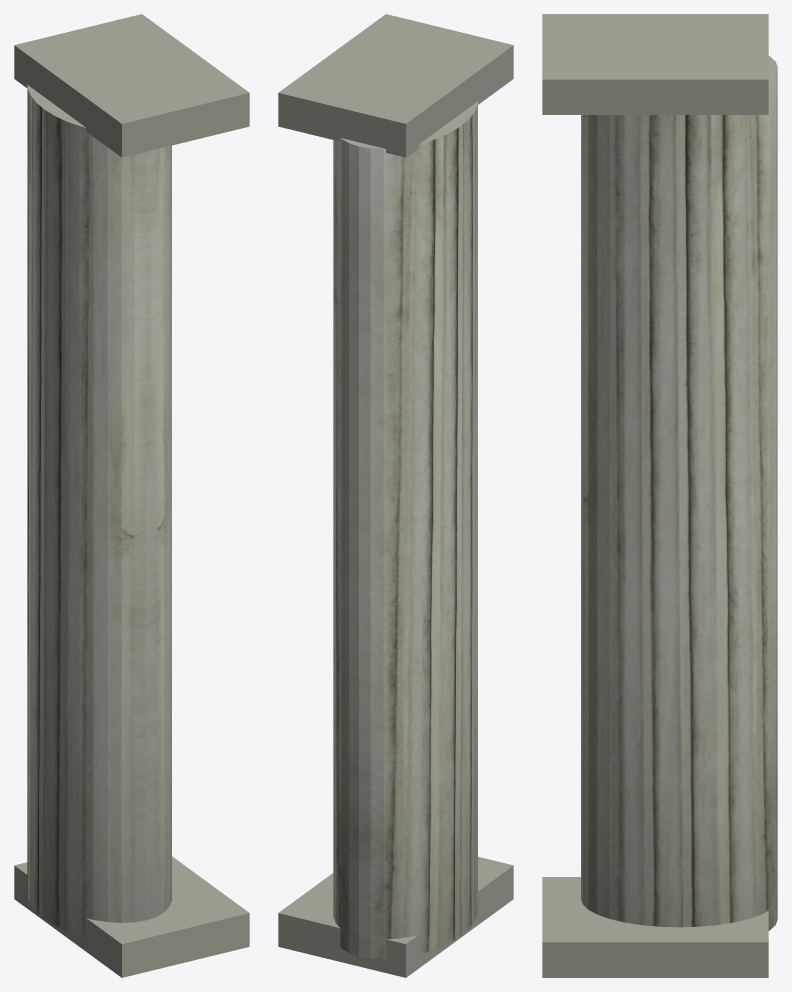
Rendered from column.fbx.
3 views of the same model, side by side, from view 1: azimuth 30°, elevation 25°; view 2: azimuth 150°, elevation 25°; view 3: azimuth 270°, elevation 25° (orthographic). The views are drawn at different scales.
Visible parts, largest first — view 1: Column.001; view 2: Column.001; view 3: Column.001.
Boxes of the visible parts, box(x1,y1,x2,y2) form: Column.001: box(14, 14, 249, 977); Column.001: box(278, 14, 513, 977); Column.001: box(542, 14, 777, 977).
Size of the model in its own units: 186 by 1080 by 257.
